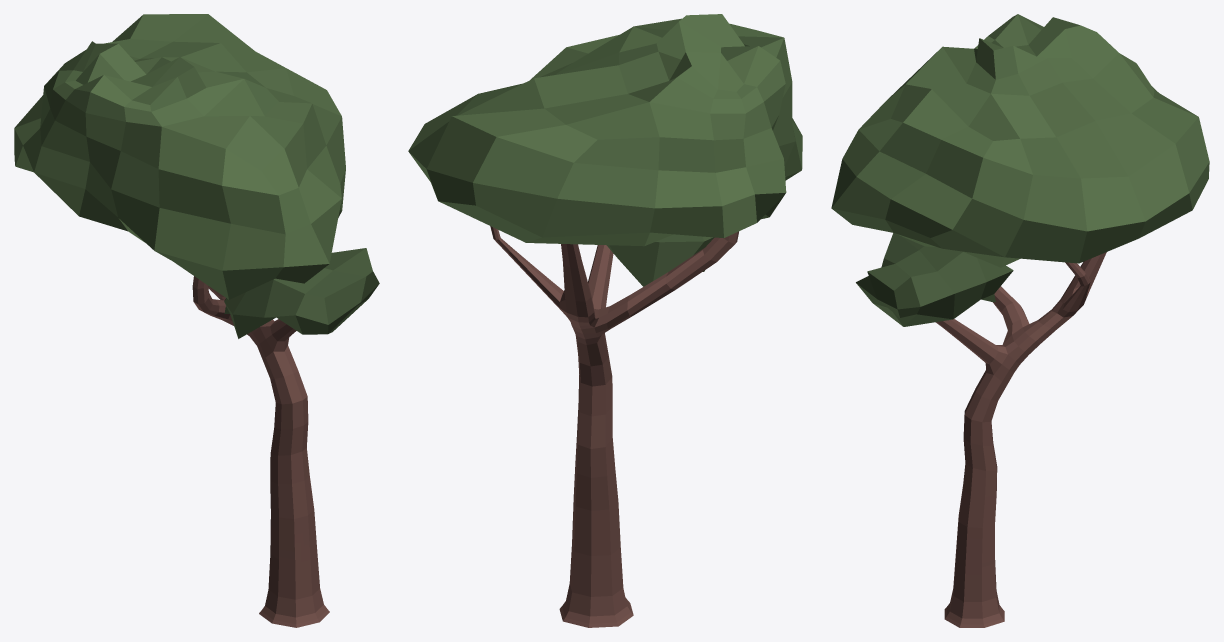
The model's file is common-tree-1.glb.
3 views of the same model, side by side, from view 1: azimuth 30°, elevation 25°; view 2: azimuth 150°, elevation 25°; view 3: azimuth 270°, elevation 25° (orthographic). The views are drawn at different scales.
Parts seen in each view (by area): view 1: CommonTree_4; view 2: CommonTree_4; view 3: CommonTree_4.
Part boxes in pixels (box(x1,y1,x2,y2)): CommonTree_4: box(14, 14, 379, 627); CommonTree_4: box(408, 14, 802, 627); CommonTree_4: box(831, 14, 1209, 627).
Bounding box in the file's own units: 1.58 × 2.78 × 1.8.
